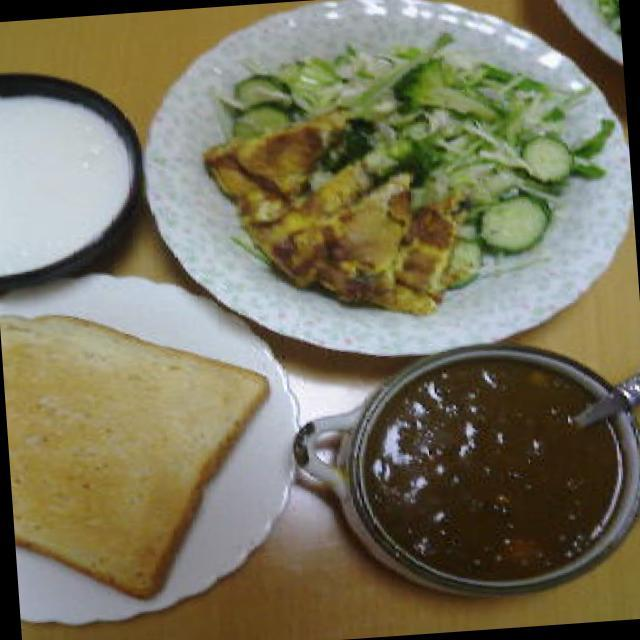Green Salad: (331, 44, 568, 226)
